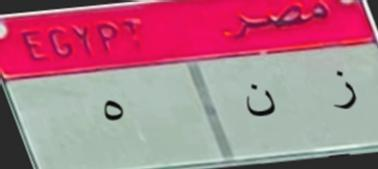5: (98, 94, 133, 128)
noon: (236, 80, 282, 127)
zay: (326, 67, 362, 124)
